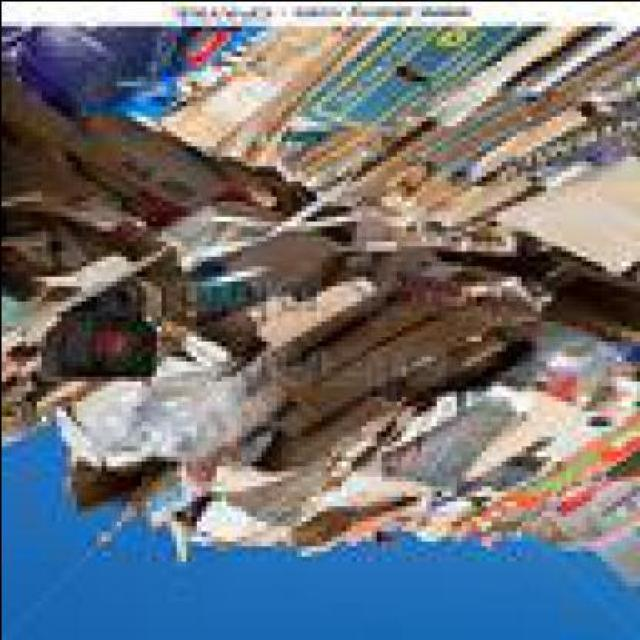CARDBOARD: (80, 310, 489, 515), (344, 29, 638, 236), (5, 169, 310, 360), (4, 64, 244, 304), (254, 30, 546, 190), (396, 360, 638, 552), (55, 330, 270, 485), (275, 286, 470, 454), (5, 30, 270, 135), (155, 36, 370, 164), (165, 430, 390, 550), (496, 114, 638, 286), (286, 310, 466, 425), (190, 235, 355, 330), (520, 236, 638, 362), (206, 284, 374, 364), (550, 458, 638, 602), (151, 515, 400, 560), (455, 280, 530, 385), (40, 314, 151, 374), (140, 266, 195, 366), (5, 355, 44, 450), (46, 380, 106, 420)
